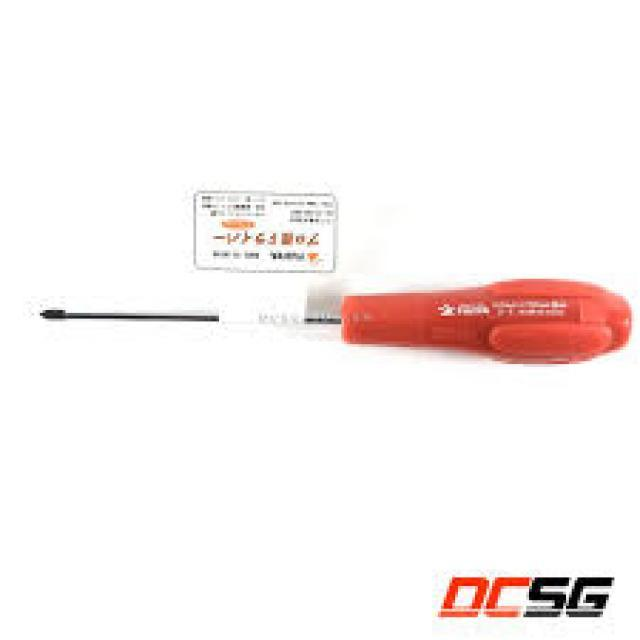screwdriver: (36, 278, 632, 366)
